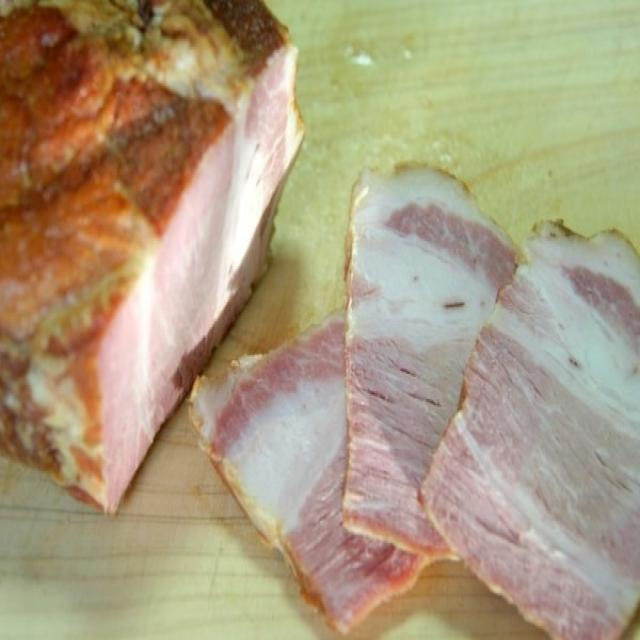Bacon Slice: (193, 167, 640, 639), (99, 45, 303, 511)
